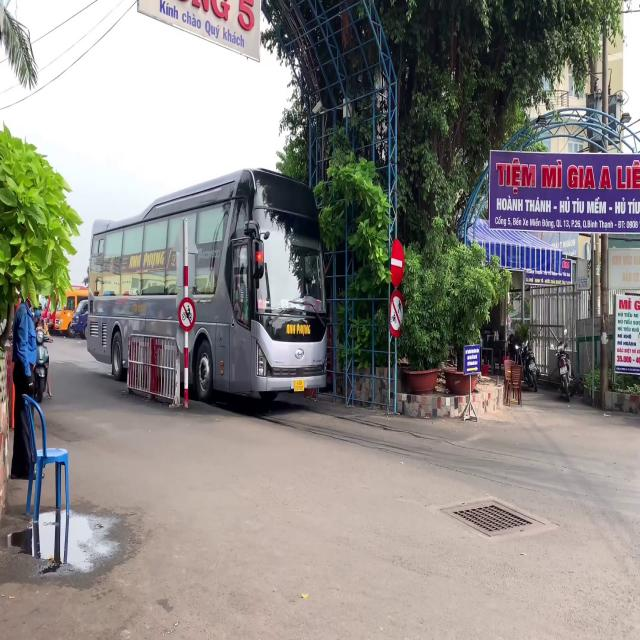bien_vang: (294, 379, 304, 391)
